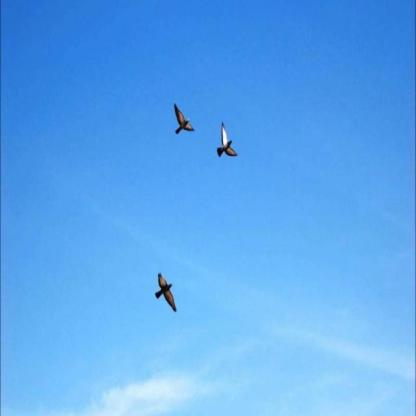bird: (150, 264, 182, 318), (214, 118, 240, 165), (171, 101, 198, 142)
